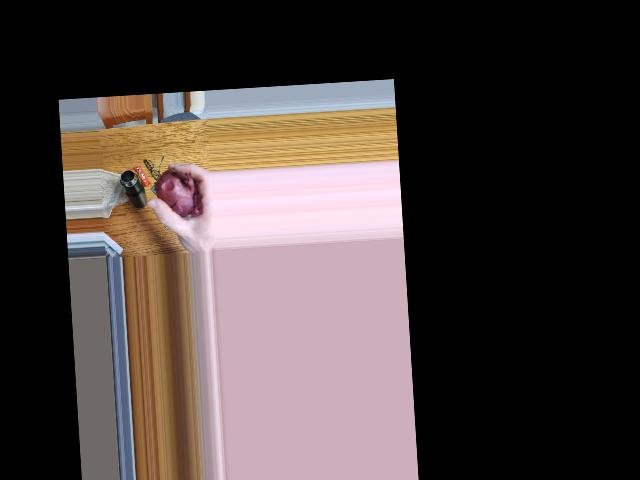onion: (160, 161, 201, 222)
